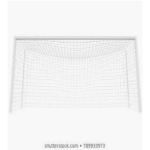goals: (10, 33, 143, 115)
